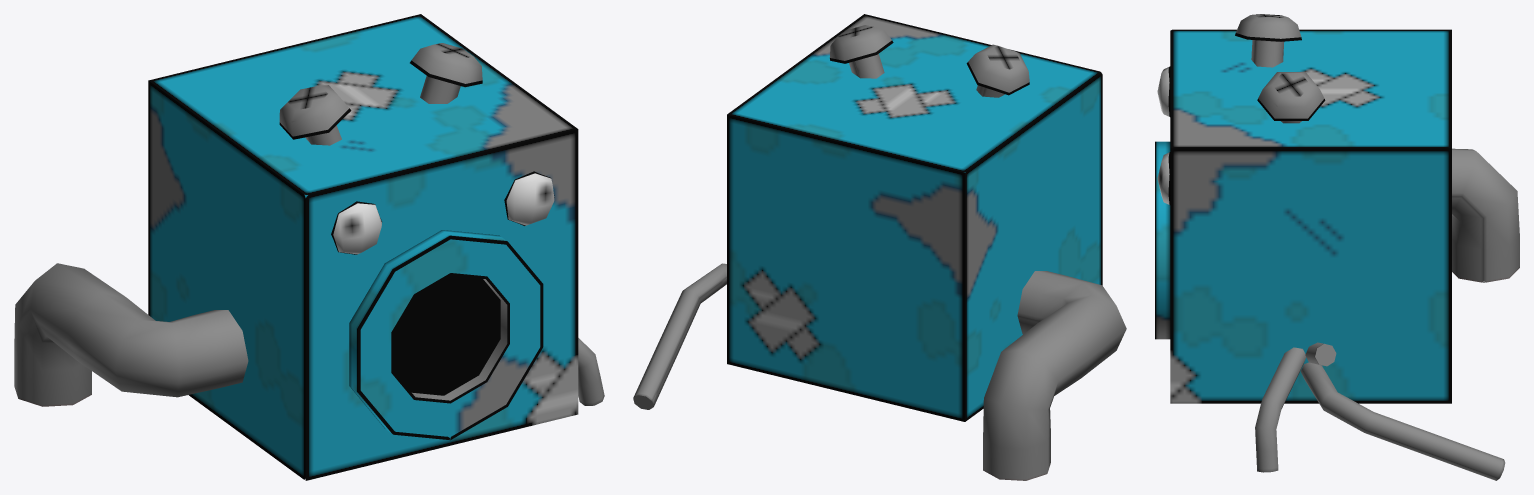
File: Prop_Dispensador.fbx
The picture shows the model from 3 angles, left to right: view 1: azimuth 30°, elevation 25°; view 2: azimuth 150°, elevation 25°; view 3: azimuth 270°, elevation 25°; orthographic projection. The views are drawn at different scales.
Visible parts, largest first — view 1: Dispensador; view 2: Dispensador; view 3: Dispensador.
Part boxes in pixels (<box>): Dispensador: <box>14,14,604,480</box>; Dispensador: <box>633,14,1126,480</box>; Dispensador: <box>1155,14,1519,480</box>.
Size of the model in its own units: 1.77 by 1.35 by 1.3.
